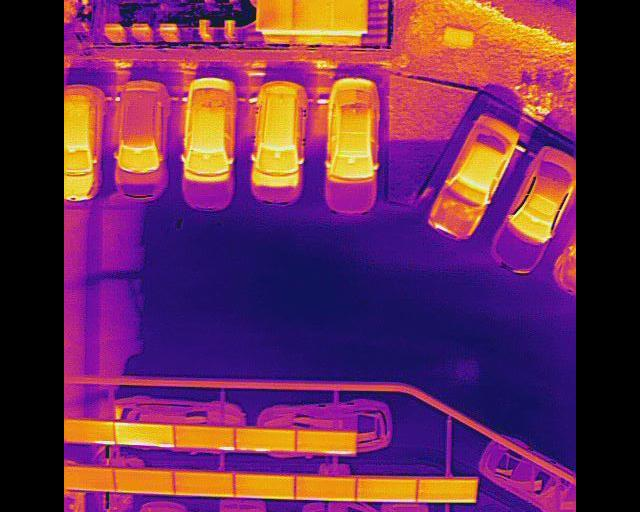No-Anomaly: (172, 470, 235, 496), (353, 476, 418, 501), (234, 473, 299, 498), (115, 468, 176, 494), (294, 475, 357, 500), (417, 478, 480, 501), (64, 468, 115, 490)
Unclassified: (116, 420, 176, 447), (295, 431, 358, 456), (173, 425, 238, 449), (236, 426, 297, 451), (64, 420, 115, 443)
